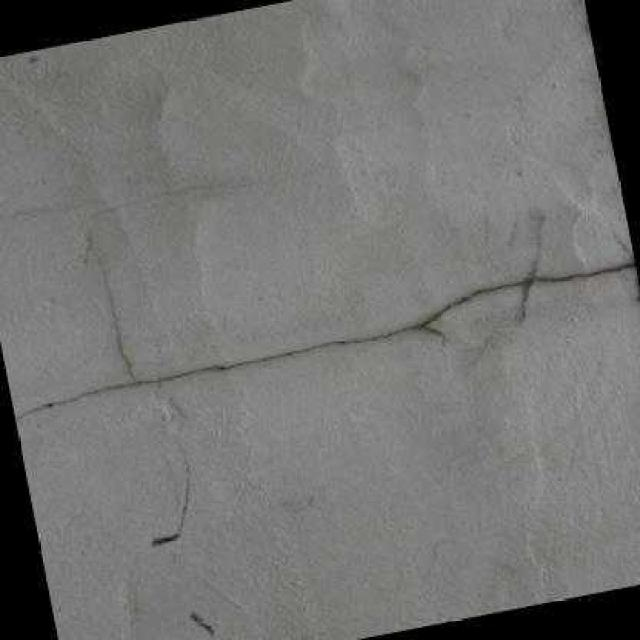D00: (11, 257, 640, 422)
